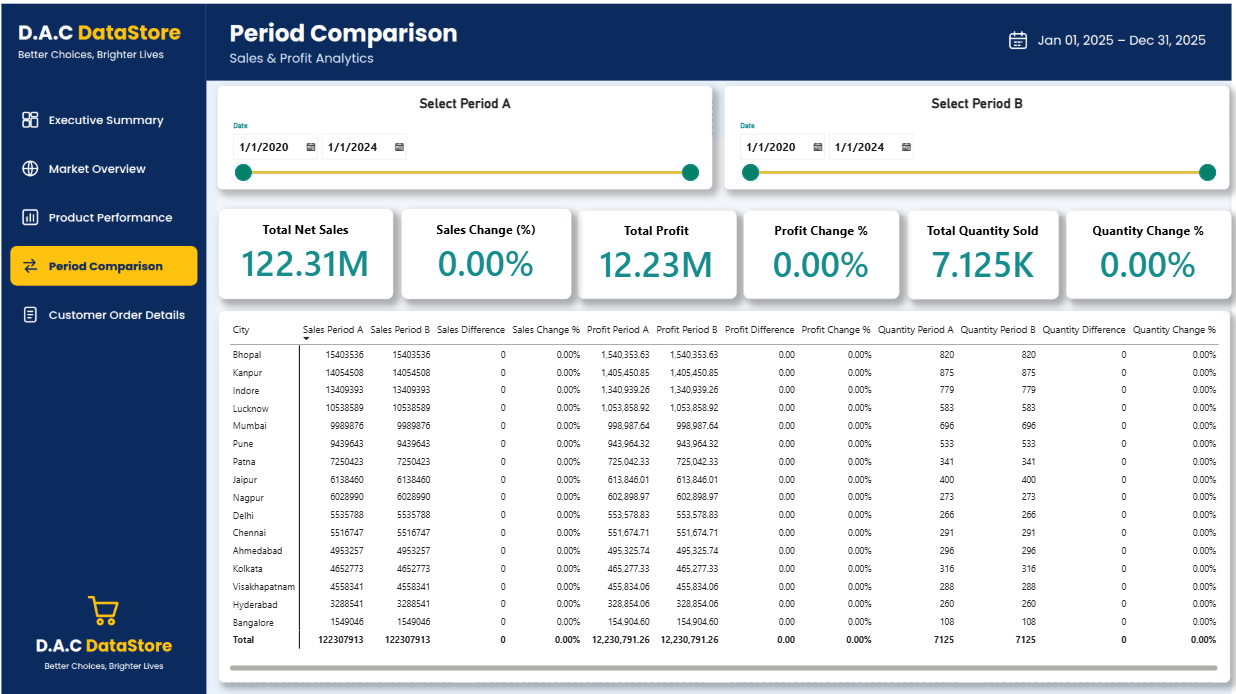

The page's visual inventory and layout, read from the dashboard file:
{"tool":"powerbi","page":{"name":"Period Comparison","canvas":[1920,1080],"ordinal":3},"visuals":[{"type":"image","box":[10,0,1910,1080],"z":0},{"type":"shape","box":[360,217.5,1532.5,350],"z":1000},{"type":"pivotTable","fields":{"Rows":["Dim Product.Product Name","Dim Customers.City","Dim Promotion.Promotion Name"],"Values":["Calendar.Sales Period A","Calendar.Sales Period B","Calendar.Sales Difference","Calendar.Sales Change %","Calendar.Profit Period A","Calendar.Profit Period B","Calendar.Profit Difference","Calendar.Profit Change %","Calendar.Quantity Period A","Calendar.Quantity Period B","Calendar.Quantity Difference","Calendar.Quantity Change %"]},"box":[360.3,479.6,1531.8,563.1],"z":2000},{"type":"slicer","title":"Select Period A","fields":{"Values":["Period A.Date"]},"box":[360,137.5,750,157.5],"z":3000},{"type":"slicer","title":"Select Period B","fields":{"Values":["Period B.Date"]},"box":[1127.5,137.5,765,157.5],"z":4000},{"type":"cardVisual","fields":{"Data":["Calendar.Total Sales"]},"box":[360.3,324.3,264.7,137.5],"z":5000},{"type":"cardVisual","fields":{"Data":["Calendar.Total Profit"]},"box":[903.7,327.2,241.9,134.6],"z":6000},{"type":"cardVisual","fields":{"Data":["Calendar.Total Quantity Sold"]},"box":[1404,327.3,230.3,135.4],"z":7000},{"type":"cardVisual","fields":{"Data":["Calendar.Sales Change %"]},"box":[638.4,324.2,257.6,137.4],"z":8000},{"type":"cardVisual","fields":{"Data":["Calendar.Quantity Change %"]},"box":[1643.4,327.2,250.7,134.6],"z":9000},{"type":"cardVisual","fields":{"Data":["Calendar.Profit Change %"]},"box":[1156.6,327.2,236,134.6],"z":10000}]}

Visuals, with their boxes on the page's 1920x1080 design canvas (x1, y1, x2, y2). These are canvas units, not pixel positions in the 1236x694 screenshot, which may show the page scaled, cropped or inside an application window:
image: 10,0,1920,1080
shape: 360,218,1892,568
pivotTable - Dim Product.Product Name x Dim Customers.City: 360,480,1892,1043
"Select Period A" slicer: 360,138,1110,295
"Select Period B" slicer: 1128,138,1892,295
cardVisual - Calendar.Total Sales: 360,324,625,462
cardVisual - Calendar.Total Profit: 904,327,1146,462
cardVisual - Calendar.Total Quantity Sold: 1404,327,1634,463
cardVisual - Calendar.Sales Change %: 638,324,896,462
cardVisual - Calendar.Quantity Change %: 1643,327,1894,462
cardVisual - Calendar.Profit Change %: 1157,327,1393,462
